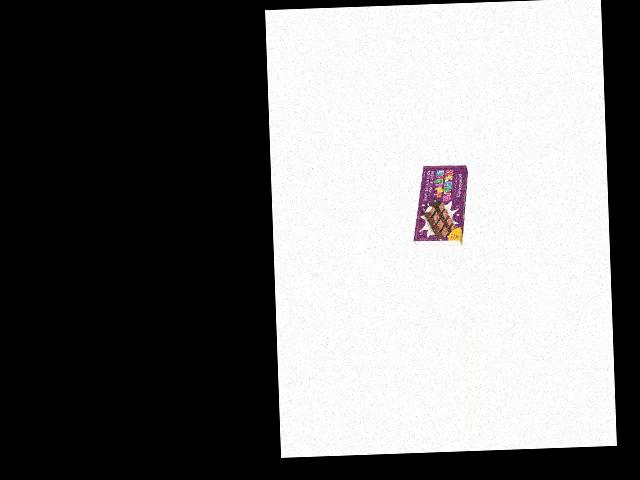chocolate: (414, 158, 470, 248)
